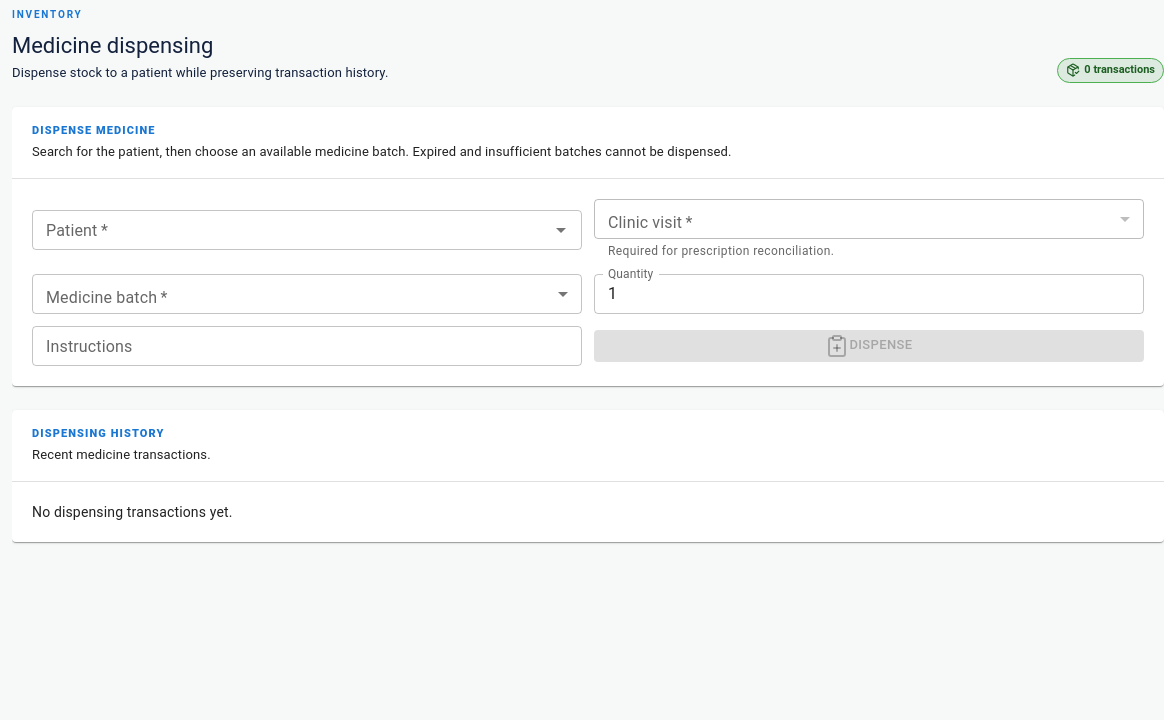
Test: DispensingPage › hides expired batches from the dispensing dropdown
Expected: the text "No dispensing transactions yet." is shown, [32,504,232,520]
What coordinates should you click on to do the following:
click the 3rd dropdown
I would click on:
 (307, 294)
Its box is [32,274,582,314].
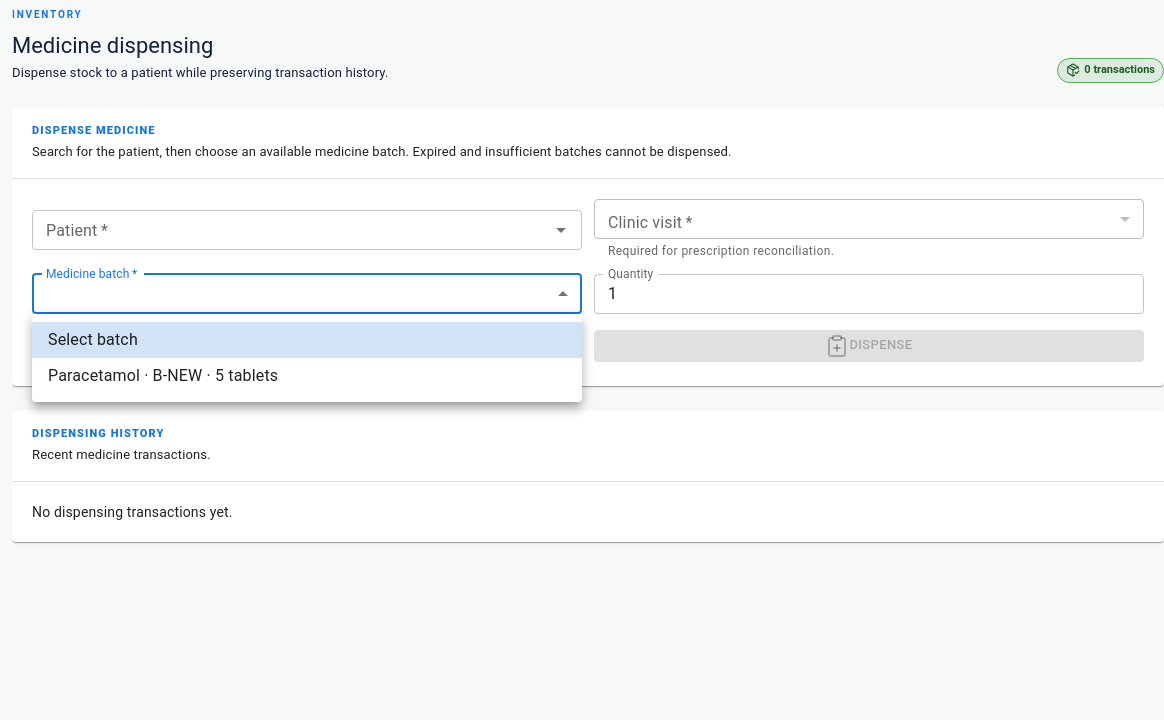
Result: the option "B-NEW" is shown at [48,366,278,385]
